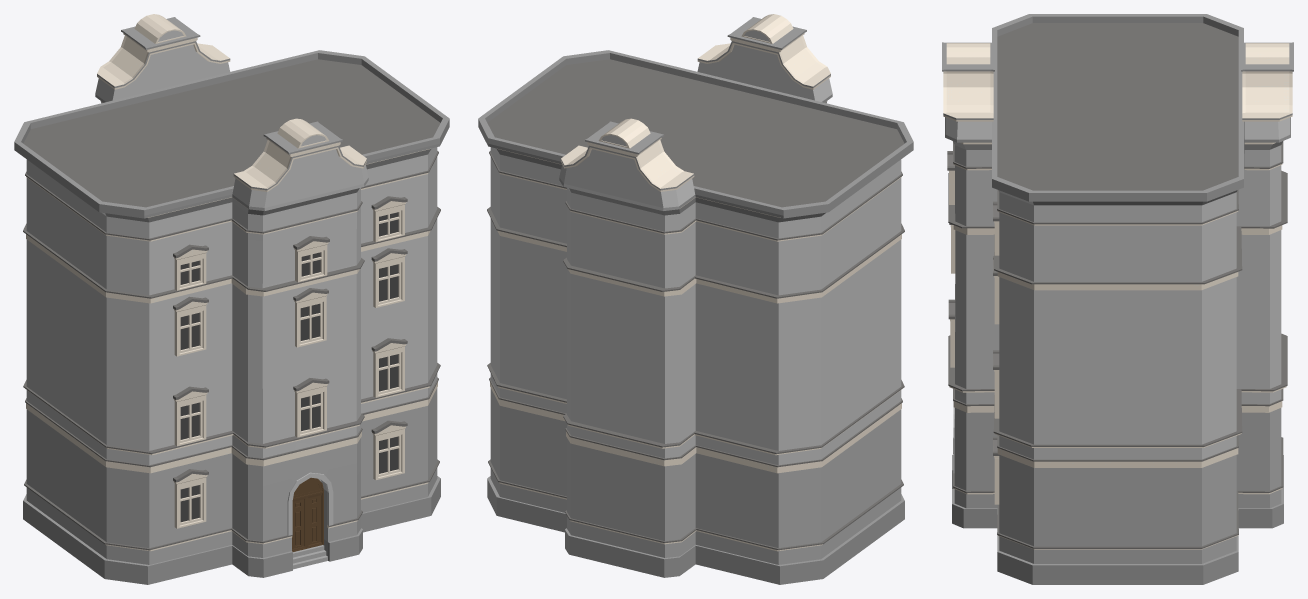
Rendered from quaternius_cc0-building-747.glb.
3 renders of one model, left to right at view 1: azimuth 30°, elevation 25°; view 2: azimuth 150°, elevation 25°; view 3: azimuth 270°, elevation 25°, orthographic. The views are drawn at different scales.
Parts seen in each view (by area): view 1: Building4; view 2: Building4; view 3: Building4.
Part boxes in pixels (left/top/right/bottom): Building4: left=14, top=14, right=449, bottom=584; Building4: left=478, top=14, right=913, bottom=584; Building4: left=942, top=14, right=1293, bottom=584.
Size of the model in its own units: 4.64 by 5.49 by 3.86.
1 material, 1 textured.
